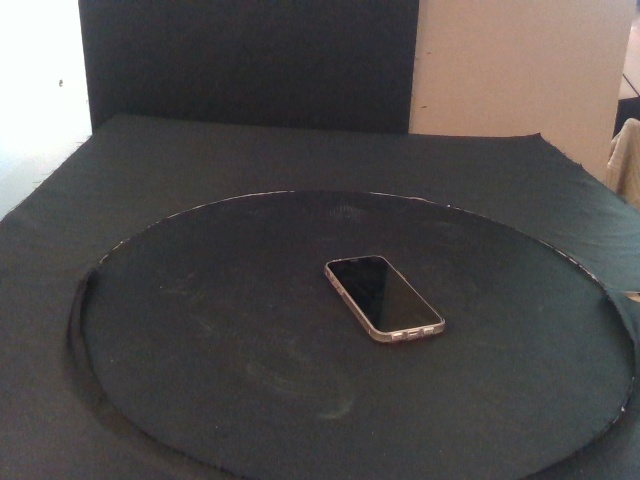phone: (324, 255, 447, 343)
